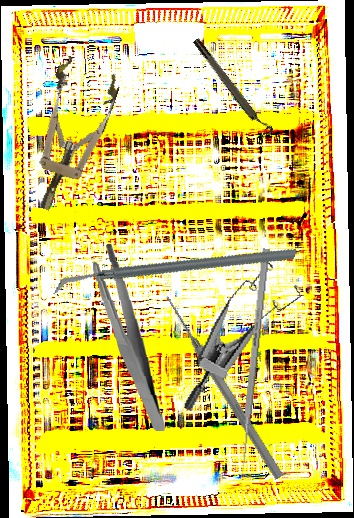Chopper: (52, 185, 297, 358)
Dressing Forceps: (91, 241, 166, 435)
Fixation Ring: (191, 33, 275, 141)
Pusher: (161, 292, 286, 482), (238, 248, 270, 476)
Speculum: (182, 249, 308, 432), (12, 53, 125, 220)
